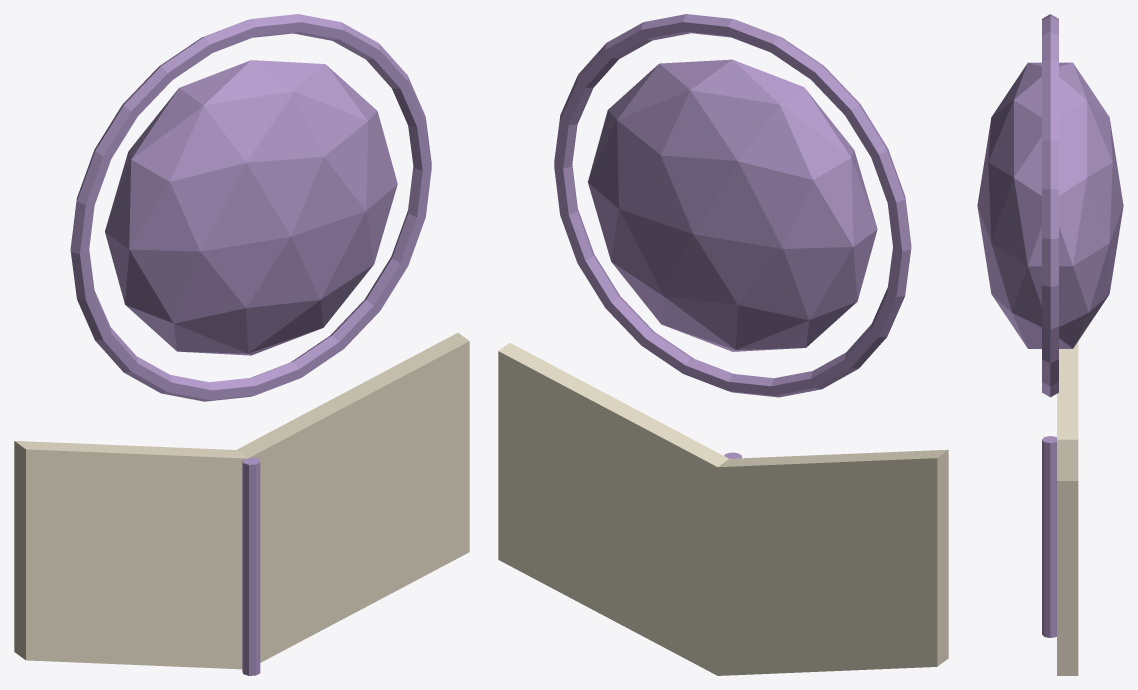
Rendered from knowledge-power.glb.
3 views of the same model, side by side, from view 1: azimuth 30°, elevation 25°; view 2: azimuth 150°, elevation 25°; view 3: azimuth 270°, elevation 25° (orthographic). The views are drawn at different scales.
Parts seen in each view (by area): view 1: Book left page.001, Orb of knowledge.001, Book spine.002; view 2: Book left page.001, Orb of knowledge.001, Book spine.002; view 3: Orb of knowledge.001, Book spine.002, Book left page.001.
Part boxes in pixels (left/top/right/bottom): Book left page.001: left=14, top=333, right=469, bottom=669; Orb of knowledge.001: left=105, top=60, right=397, bottom=355; Book spine.002: left=70, top=14, right=431, bottom=675; Book left page.001: left=498, top=343, right=948, bottom=675; Orb of knowledge.001: left=588, top=59, right=877, bottom=351; Book spine.002: left=554, top=14, right=911, bottom=458; Orb of knowledge.001: left=977, top=62, right=1123, bottom=348; Book spine.002: left=1042, top=14, right=1058, bottom=637; Book left page.001: left=1057, top=341, right=1078, bottom=675.
Size of the model in its own units: 0.022 by 0.031 by 0.0068.
